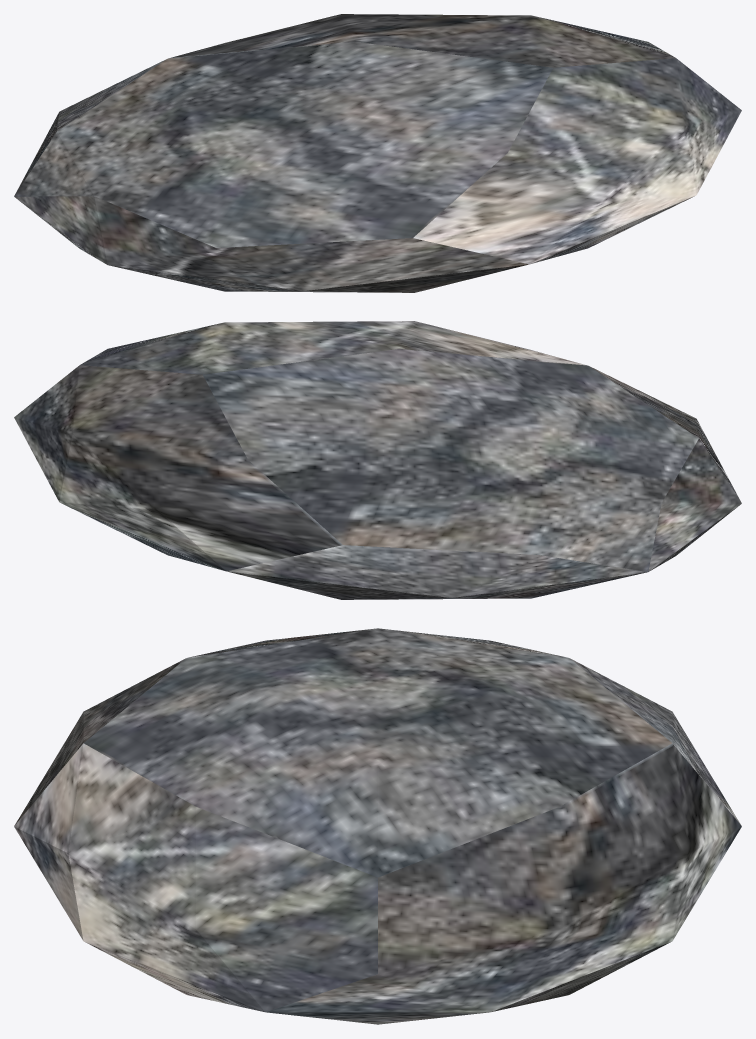
File: rock43.fbx
3 renders of one model, top to bottom at view 1: azimuth 30°, elevation 25°; view 2: azimuth 150°, elevation 25°; view 3: azimuth 270°, elevation 25°, orthographic. The views are drawn at different scales.
Visible parts, largest first — view 1: Icosphere; view 2: Icosphere; view 3: Icosphere.
Part boxes in pixels (left/top/right/bottom): Icosphere: left=14, top=14, right=741, bottom=292; Icosphere: left=14, top=321, right=741, bottom=599; Icosphere: left=14, top=628, right=741, bottom=1024.
Bounding box in the file's own units: 220 × 33.43 × 182.
1 material, 1 textured.
